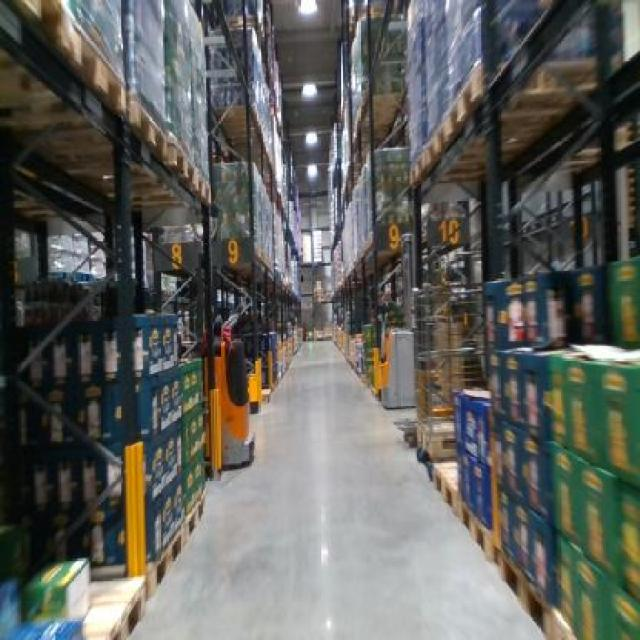pallet: (15, 0, 209, 192), (380, 56, 506, 204), (141, 480, 223, 595), (418, 460, 478, 524)
